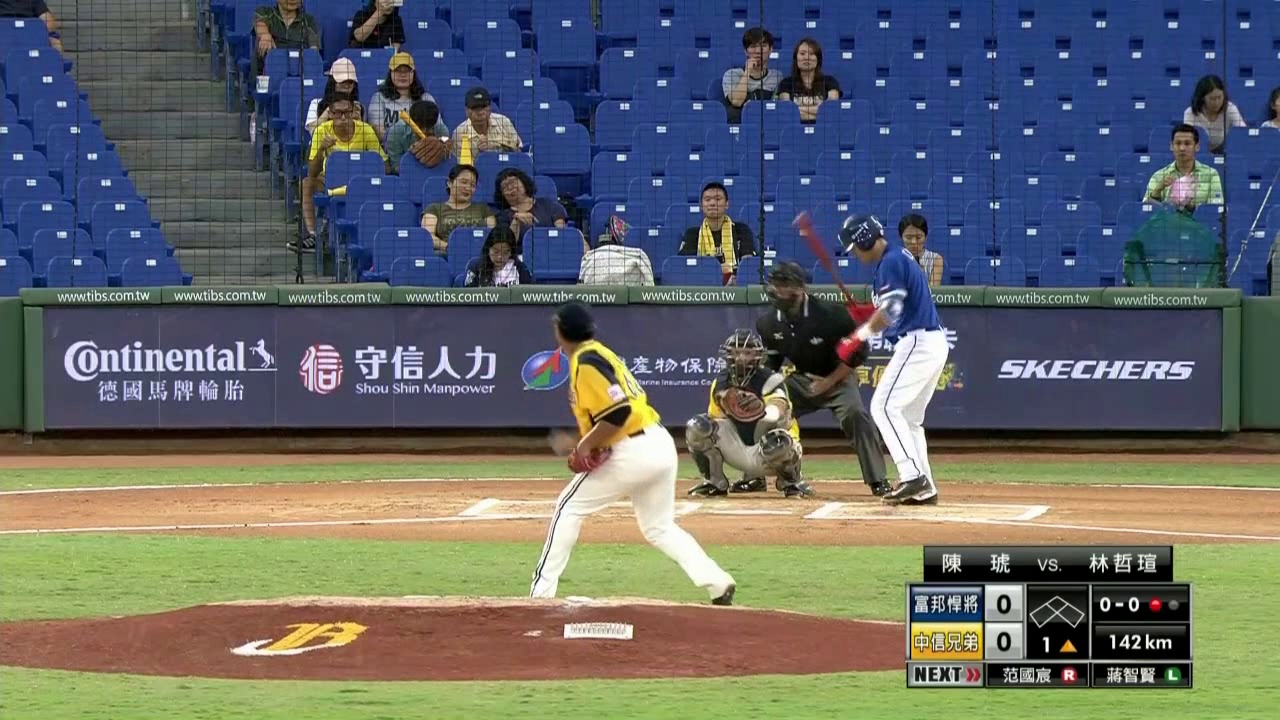ball: (627, 337, 652, 362)
base: (1029, 593, 1085, 629)
bat: (829, 198, 843, 269)
out: (1146, 595, 1182, 613)
score1: (985, 584, 1023, 620)
score2: (985, 622, 1023, 659)
session: (1038, 634, 1078, 654)
strikeball: (1096, 593, 1139, 615)
total: (1109, 631, 1156, 654)
